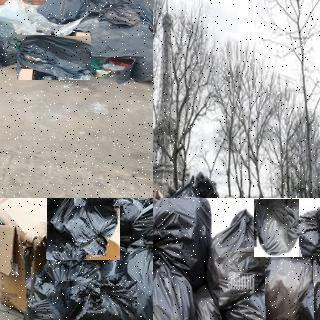Garbage: (24, 241, 105, 320), (208, 209, 267, 308), (46, 198, 120, 260), (153, 198, 211, 277), (50, 276, 141, 320), (17, 36, 91, 80), (265, 257, 314, 320), (118, 243, 153, 320), (254, 199, 299, 257), (290, 205, 320, 283), (153, 264, 194, 320), (223, 287, 279, 320), (191, 284, 223, 320), (131, 198, 153, 246), (99, 5, 140, 29), (0, 35, 28, 69)
